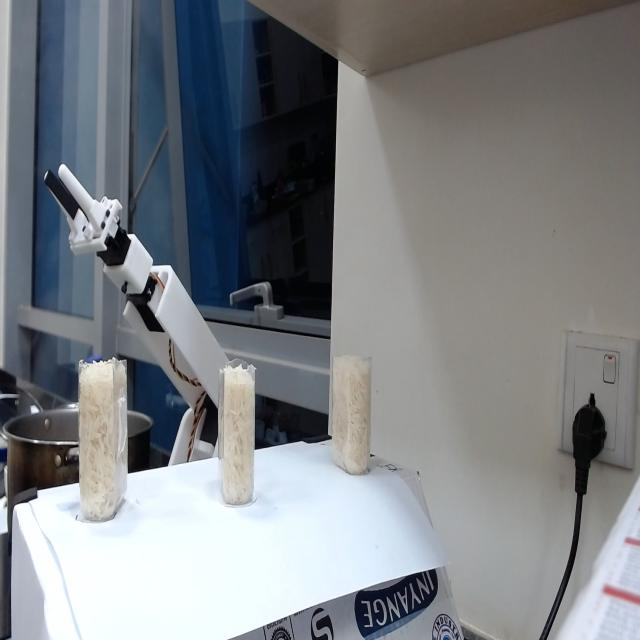raw_rice: (80, 361, 122, 515), (332, 352, 370, 478), (221, 364, 254, 505)
